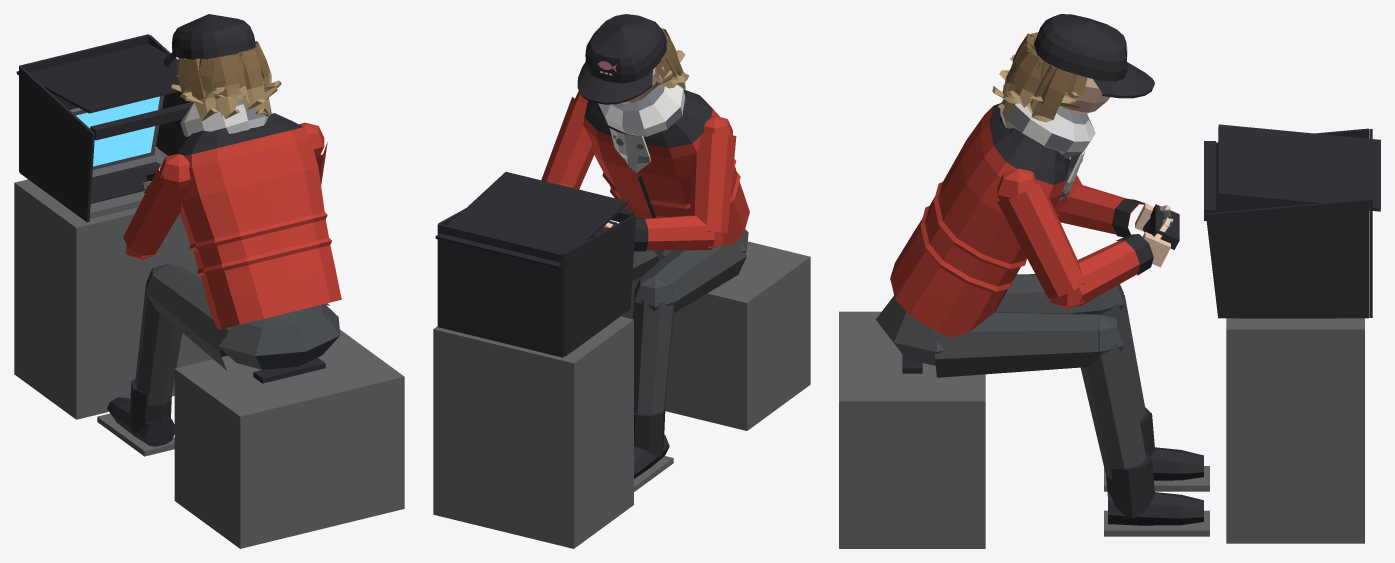
Rendered from pilot.glb.
The picture shows the model from 3 angles, left to right: view 1: azimuth 30°, elevation 25°; view 2: azimuth 150°, elevation 25°; view 3: azimuth 270°, elevation 25°; orthographic projection. The views are drawn at different scales.
Visible parts, largest first — view 1: PilotBody, PilotLaptop; view 2: PilotLaptop, PilotBody; view 3: PilotBody, PilotLaptop.
Part boxes in pixels (x1=…): PilotBody: x1=97, y1=14, x2=404, y2=548; PilotLaptop: x1=14, y1=34, x2=212, y2=419; PilotLaptop: x1=433, y1=172, x2=635, y2=548; PilotBody: x1=541, y1=14, x2=810, y2=491; PilotBody: x1=839, y1=14, x2=1209, y2=548; PilotLaptop: x1=1204, y1=124, x2=1380, y2=543.
Size of the model in its own units: 0.5997 by 1.31 by 1.33.
